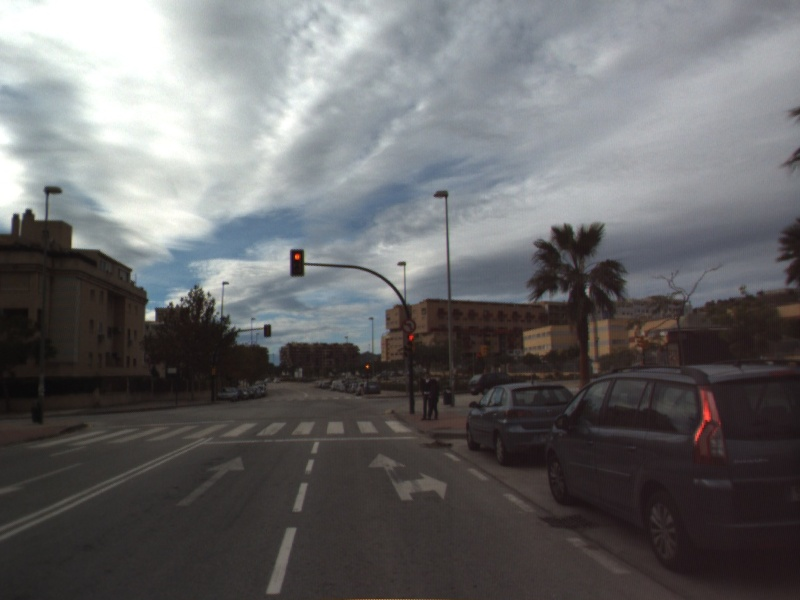STRAIGHT: (174, 454, 247, 508)
STRAIGHT_RIGHT: (366, 451, 449, 503)
